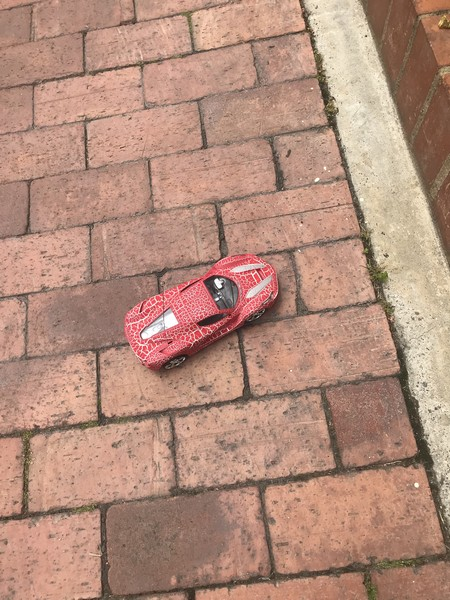RC: (122, 252, 281, 375)
